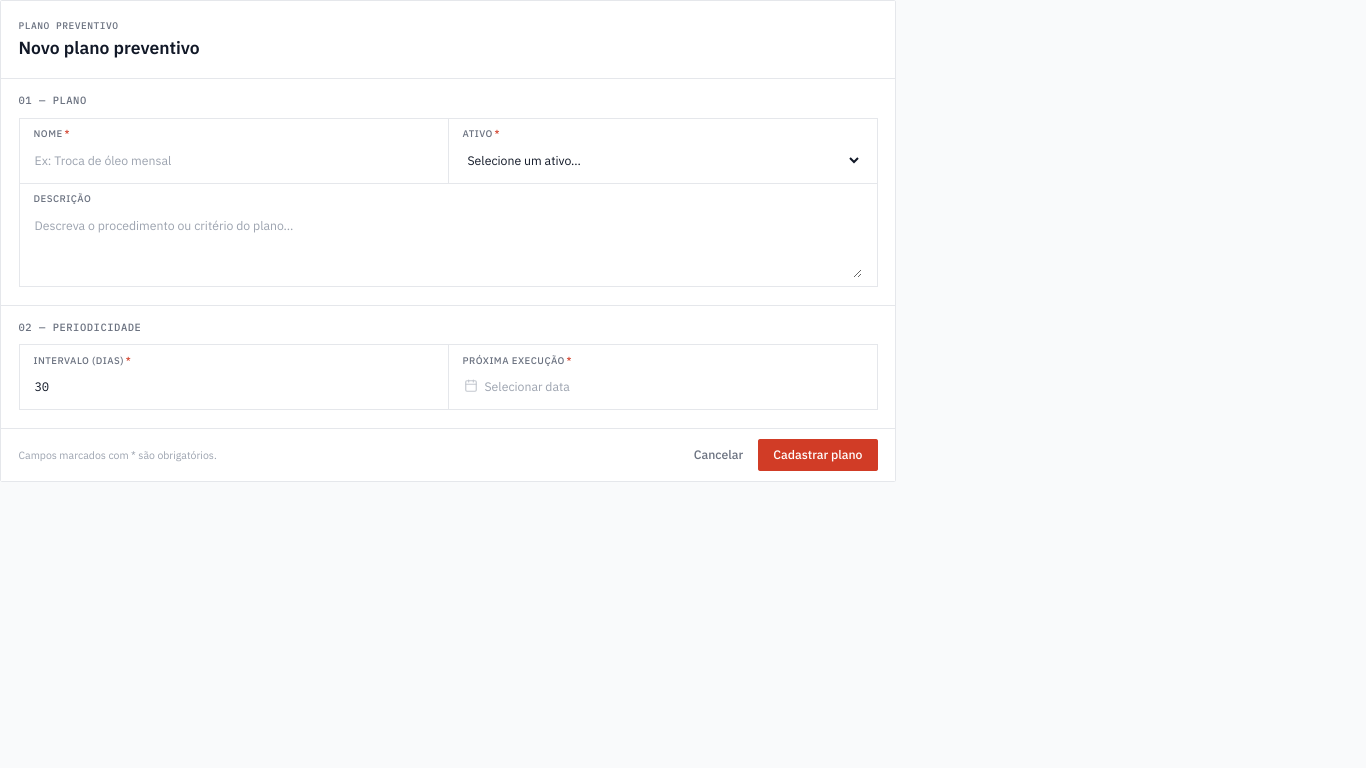
it: PreventivePlanEditPage — modo criação › não deve permitir escolher dia passado na próxima execução
Click the button named "Próxima Execução" at (527, 386), box [462, 371, 862, 402]
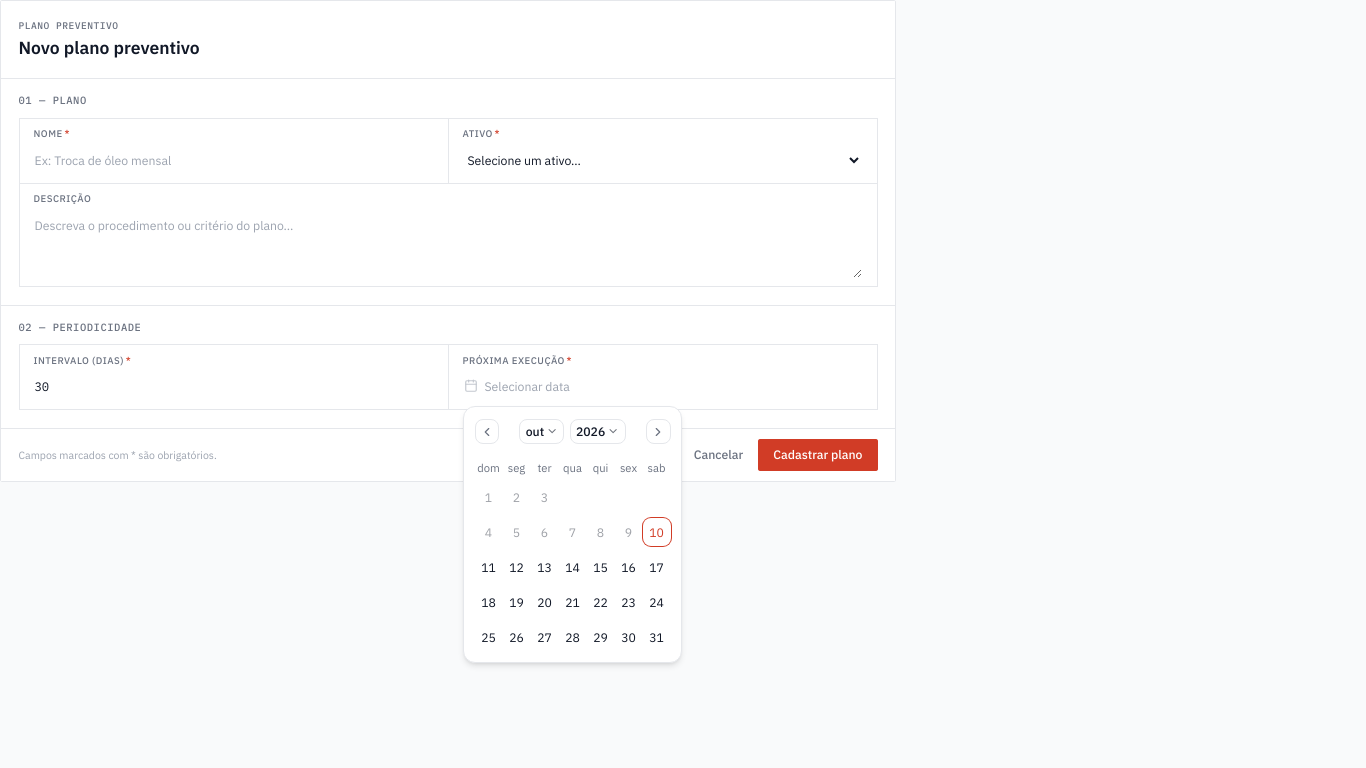
Expected: the button "9" is disabled, [614, 518, 642, 546]
Expected: the button named "10 de outubro de 2026" is enabled, [642, 518, 670, 546]
